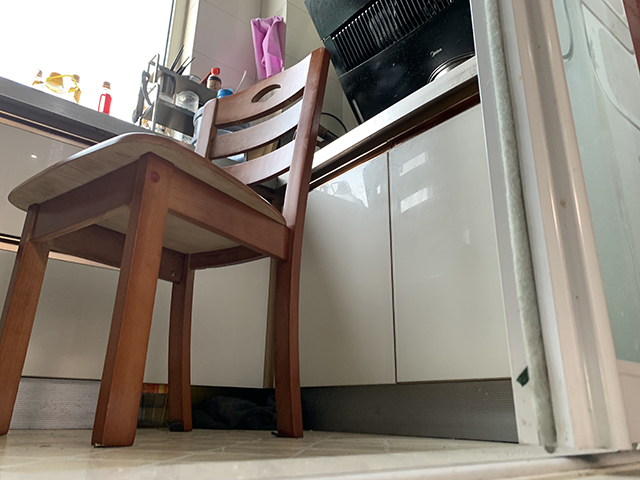cabinet: (1, 53, 519, 448)
stool: (1, 45, 332, 448)
